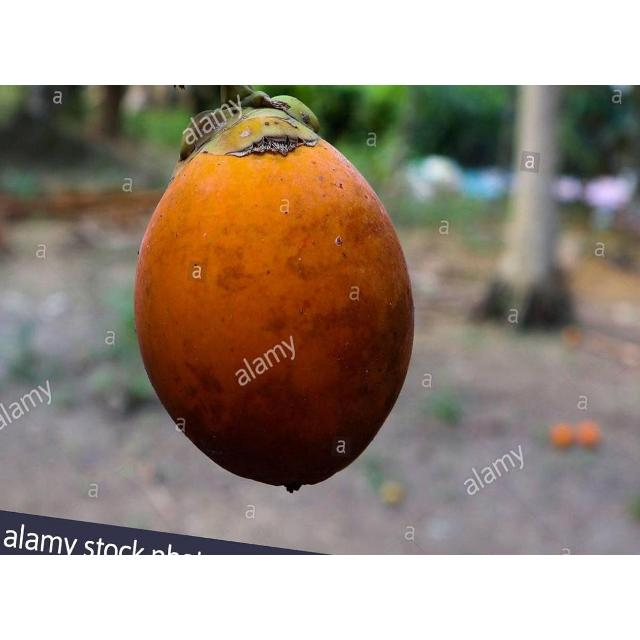good: (133, 91, 416, 495)
